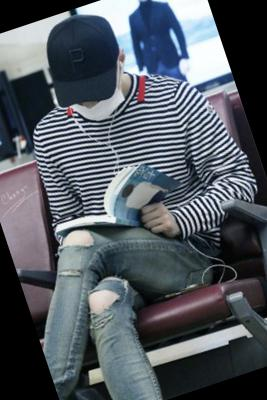mask_weared_incorrect: (67, 74, 133, 129)
